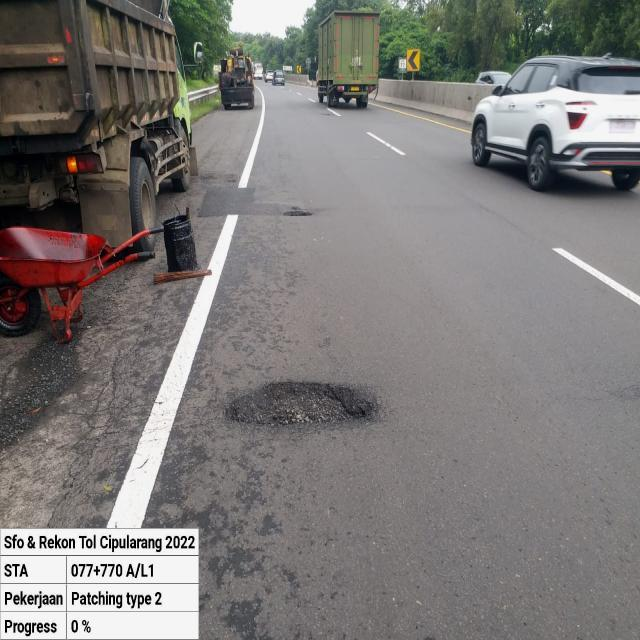Buraco: (220, 378, 384, 436), (280, 205, 316, 219), (317, 110, 337, 118)
